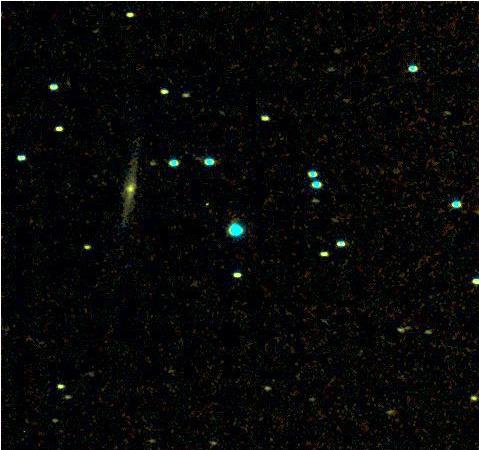star: (345, 335, 375, 365)
